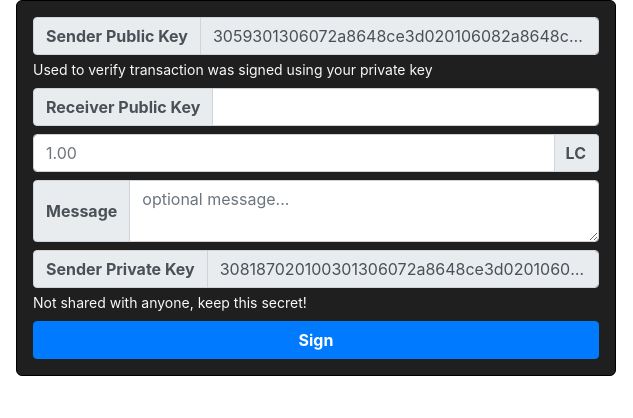
Test case: Amount checking › shows error when more than 2 decimal places
The width and height of the screenshot is (633, 418).
Type "123.456" into the number field named "Sign Amount".
click(294, 153); type("123.456")  # box left=33, top=134, right=555, bottom=172
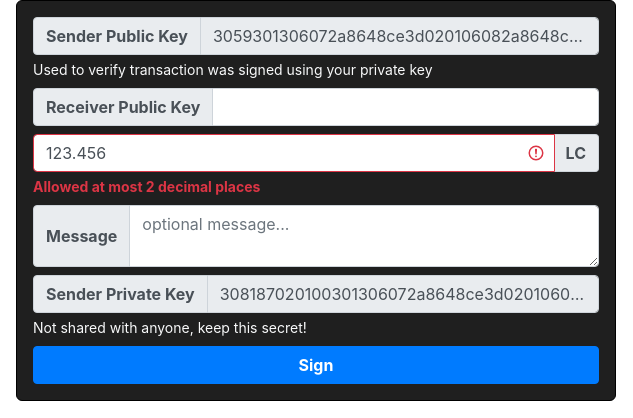
Check: the message named "Amount Feedback" reads "Allowed at most 2 decimal places", box left=33, top=178, right=260, bottom=195
